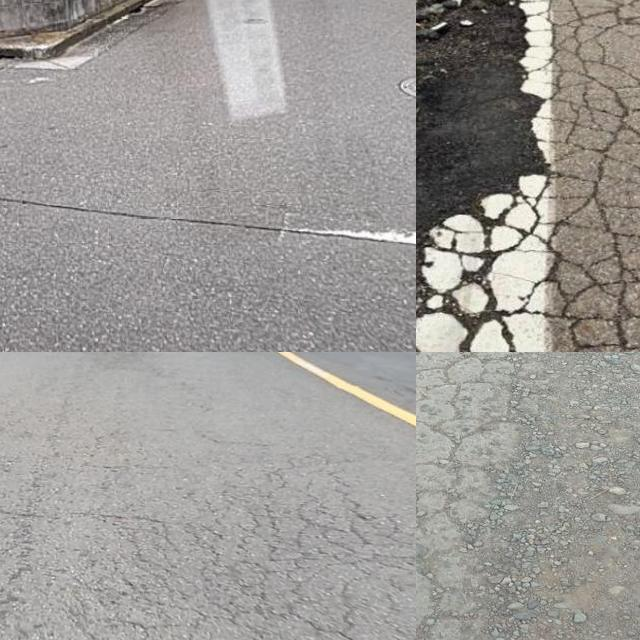Melintang: (0, 186, 416, 259)
Pinggir: (416, 0, 550, 251)
Retak Buaya: (416, 0, 640, 352), (141, 475, 416, 640), (416, 352, 519, 633)
